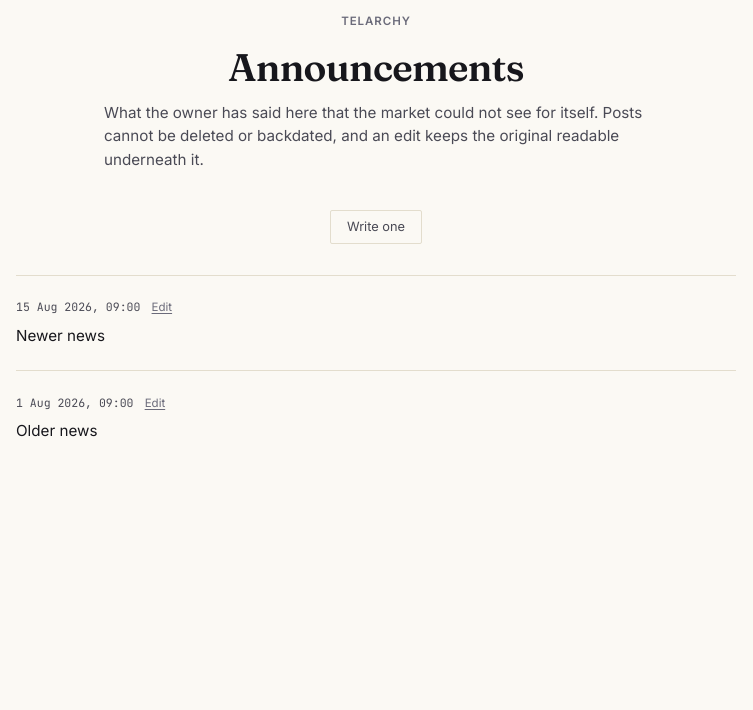
Scenario: the announcements page › an owner edit renders as an edit, original and all
Click the button "Edit" next to "15 Aug 2026, 09:00" at (162, 308), box [152,300,172,317]
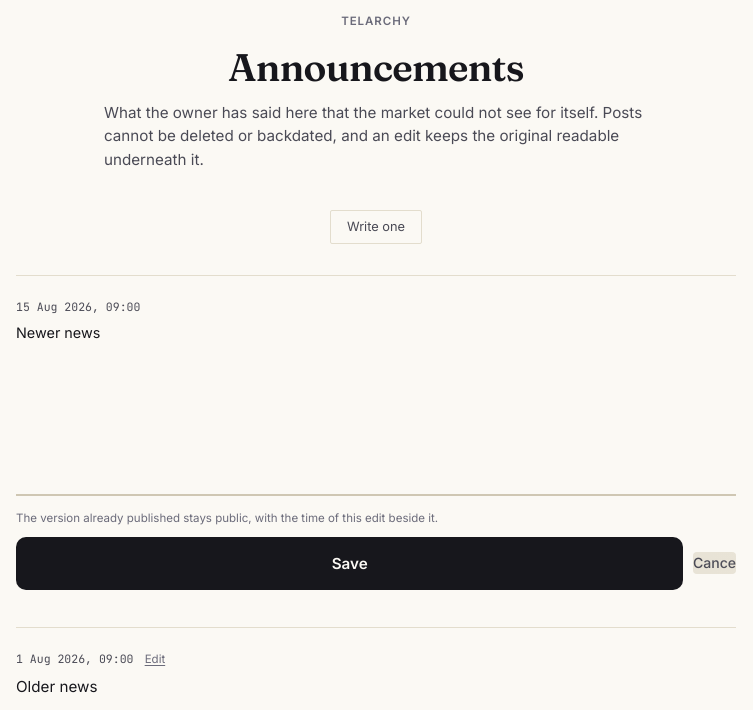
Replace the text in the text box named "Edit announcement" with "Corrected" at (376, 409), box [16,323,736,496]
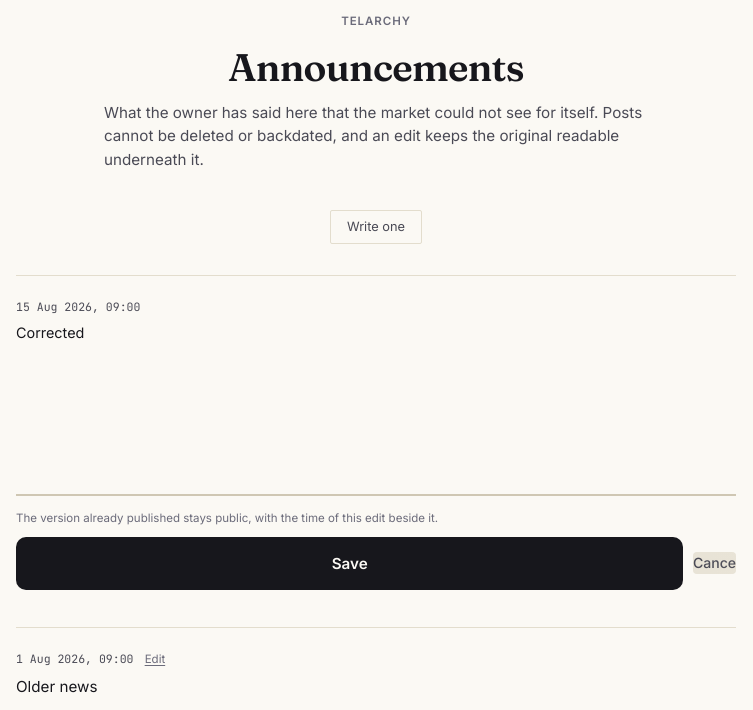
Click the button "Save" at (350, 563), box [16,537,683,590]
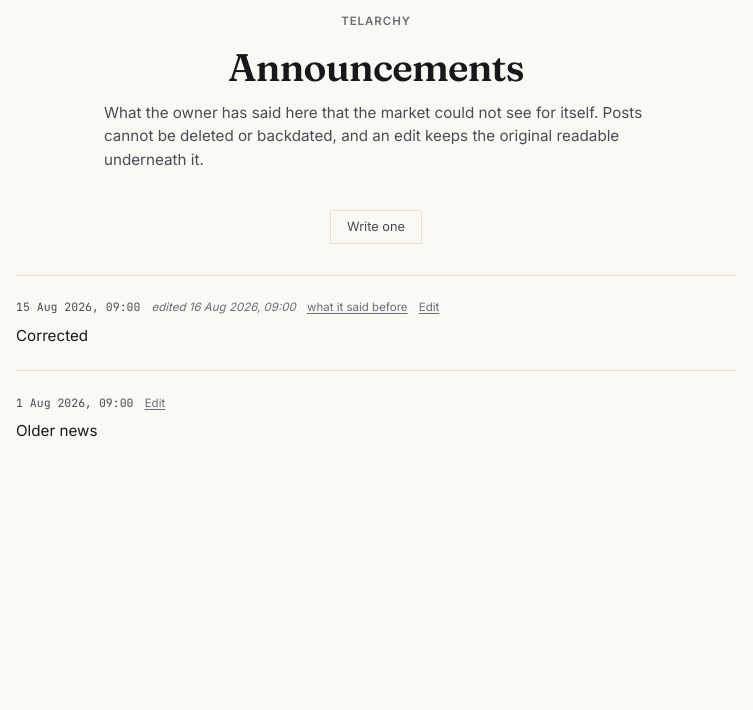
Result: the text "edited 16 Aug 2026, 09:00" is shown at [152,300,296,317]
Click the button "what it said before" at (357, 308), box [307,300,408,317]
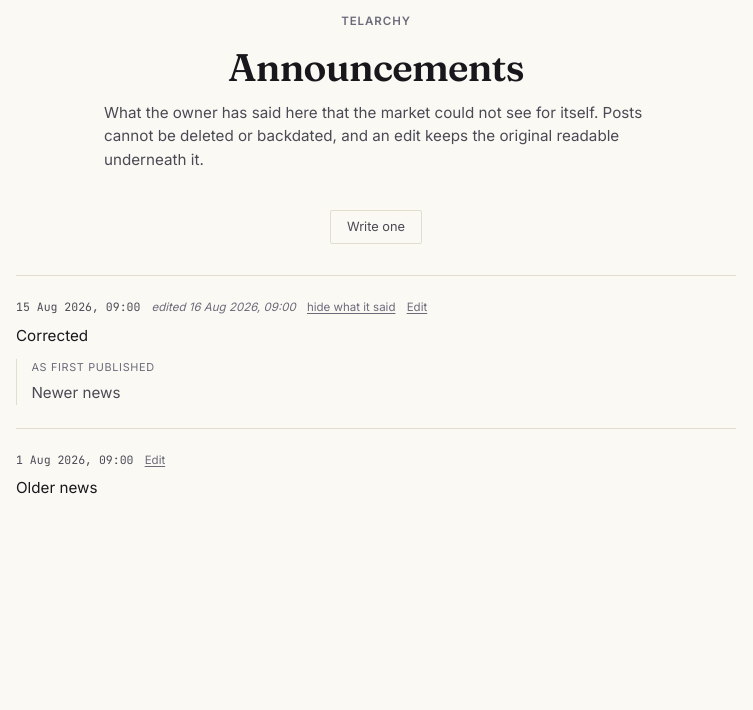
Result: the text "Newer news" is shown at [31,383,120,402]
